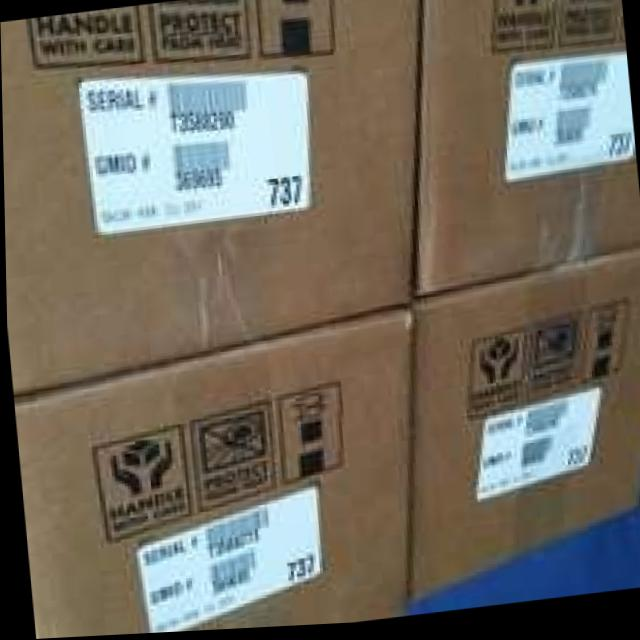box: (0, 0, 424, 394), (12, 306, 413, 639), (405, 252, 640, 608), (413, 0, 640, 306)
